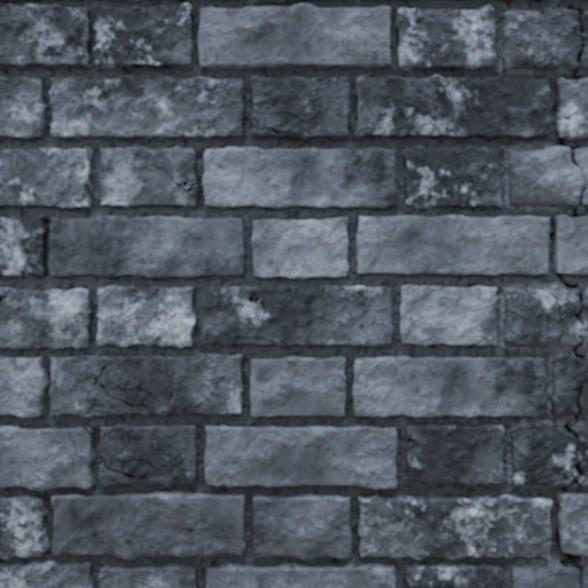brick: (51, 491, 245, 558), (358, 494, 551, 559), (354, 75, 550, 139), (198, 4, 390, 68), (50, 76, 245, 138), (49, 216, 244, 278), (205, 425, 396, 488), (50, 354, 242, 416), (202, 284, 393, 346), (203, 147, 396, 208), (352, 356, 546, 416), (356, 216, 548, 274), (395, 5, 496, 69), (94, 4, 193, 68), (0, 0, 91, 68), (253, 495, 351, 558), (251, 76, 349, 139), (97, 285, 195, 347), (99, 423, 197, 485), (98, 147, 199, 207), (404, 146, 503, 207), (0, 426, 94, 489), (407, 423, 503, 484), (400, 285, 497, 344), (252, 218, 347, 278), (251, 356, 345, 416), (0, 287, 92, 348), (0, 148, 92, 207), (207, 563, 394, 587), (0, 494, 48, 558), (0, 217, 48, 277), (0, 356, 47, 416), (0, 77, 45, 138), (0, 560, 94, 587), (405, 562, 502, 587), (99, 563, 195, 587), (555, 78, 587, 139), (554, 215, 587, 274), (558, 493, 587, 556), (279, 0, 307, 3), (88, 427, 93, 431), (335, 0, 350, 1)
broken_brick: (501, 8, 587, 72), (508, 145, 587, 207), (510, 423, 587, 486), (503, 287, 581, 346), (550, 355, 587, 417), (510, 561, 578, 587), (559, 287, 587, 348), (582, 563, 587, 587), (580, 189, 587, 205)
crack: (543, 259, 585, 345), (555, 527, 585, 587), (99, 454, 156, 482), (556, 446, 584, 498), (563, 382, 584, 438), (163, 167, 198, 195), (558, 137, 581, 167), (252, 109, 304, 122), (568, 184, 587, 218), (253, 124, 297, 138), (568, 5, 585, 34), (235, 336, 281, 346), (573, 39, 584, 80), (573, 334, 587, 361), (129, 578, 154, 587), (407, 433, 417, 449), (549, 230, 555, 254), (84, 427, 92, 435), (413, 479, 426, 483), (552, 103, 556, 115), (0, 295, 6, 302), (389, 163, 396, 169), (52, 108, 60, 112), (493, 290, 498, 296), (512, 457, 515, 463)
